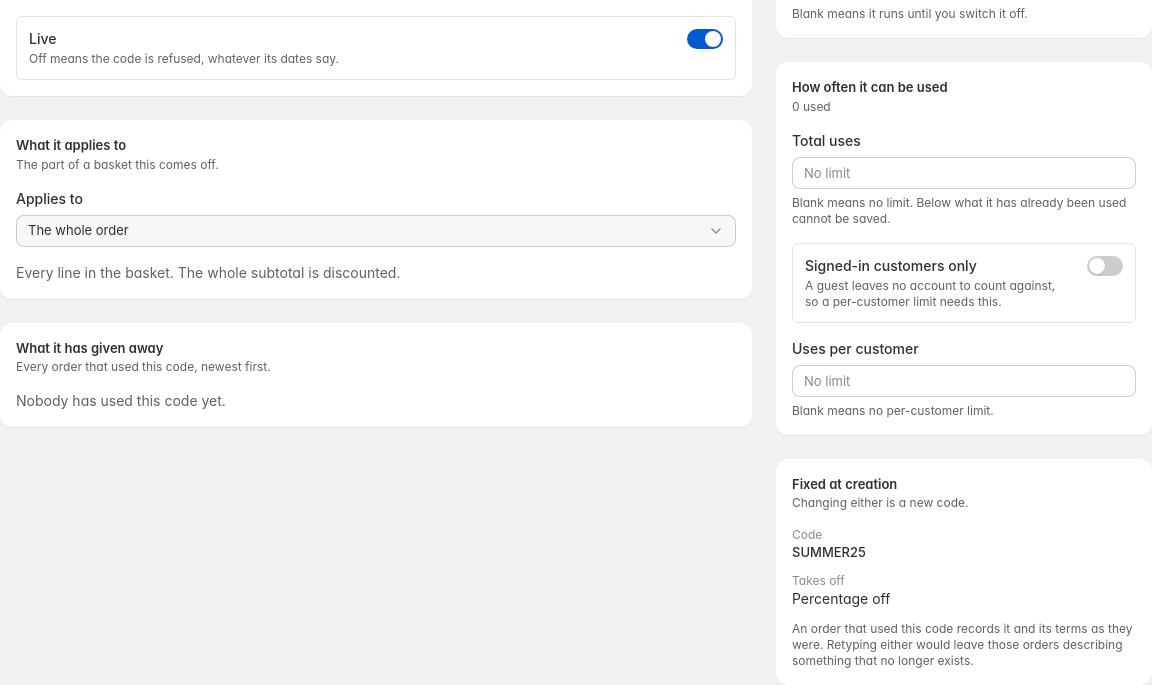
DiscountDetailPage › says why a per-customer limit needs an account
(page scrolled)
Type "2" into the number field labelled "Uses per customer". click: (964, 381)
box: [792,365,1136,397]
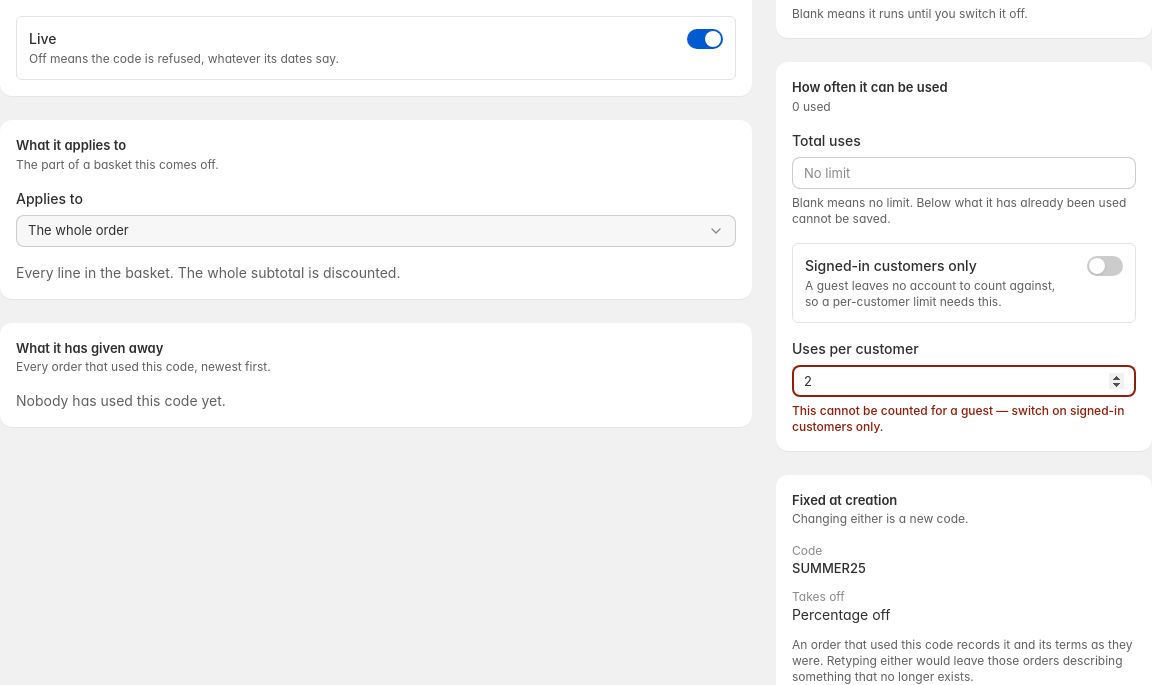
Now the text "cannot be counted for a guest" is shown, box [792,403,1124,434]
